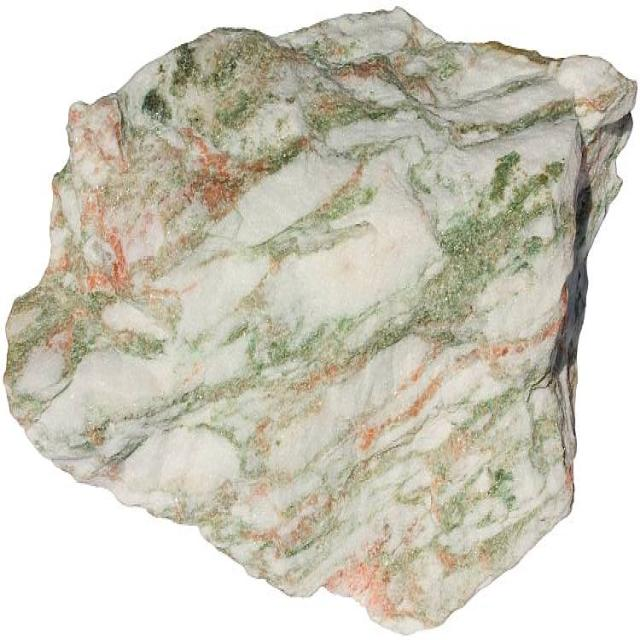Metamorphic: (11, 6, 633, 634)
